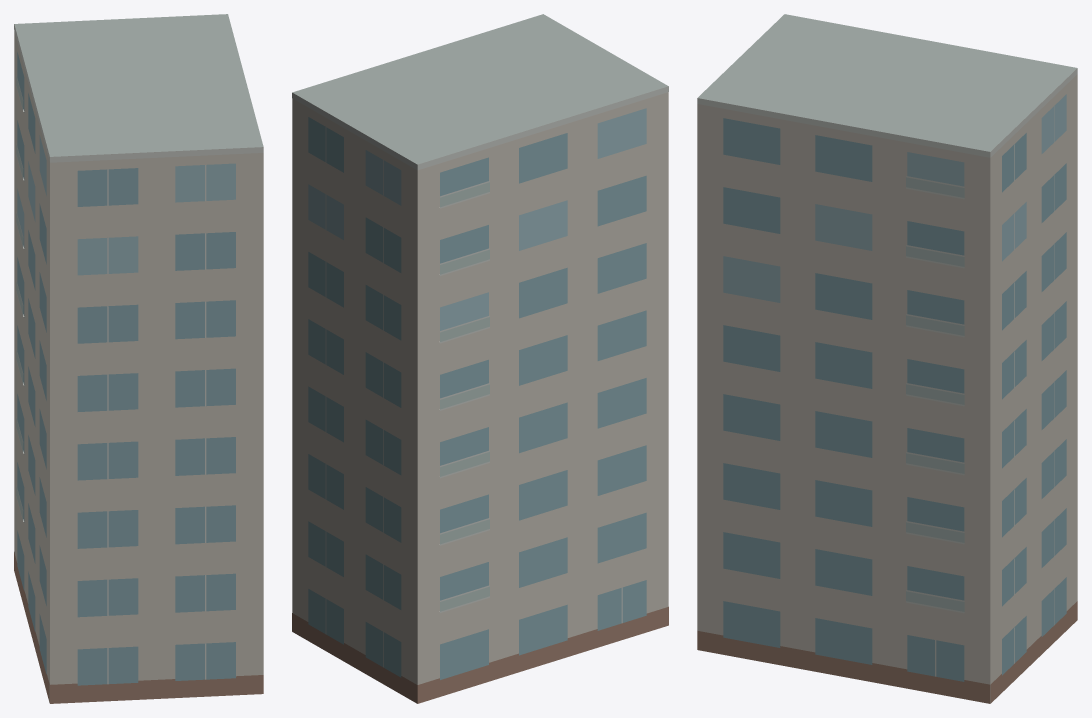
Rendered from survey-upis-32670350.glb.
3 renders of one model, left to right at view 1: azimuth 30°, elevation 25°; view 2: azimuth 150°, elevation 25°; view 3: azimuth 270°, elevation 25°, orthographic. The views are drawn at different scales.
Visible parts, largest first — view 1: survey-upis-32670350.tmp; view 2: survey-upis-32670350.tmp; view 3: survey-upis-32670350.tmp.
Part boxes in pixels (box(x1,y1,x2,y2)): survey-upis-32670350.tmp: box(14, 14, 263, 703); survey-upis-32670350.tmp: box(292, 14, 668, 703); survey-upis-32670350.tmp: box(697, 14, 1077, 703).
Bounding box in the file's own units: 12.23 × 22.8 × 14.25.
